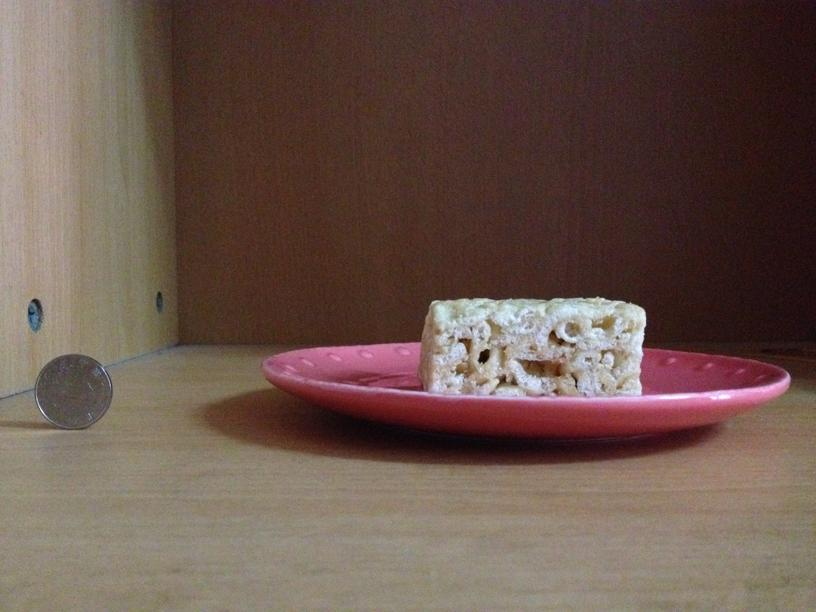coin: (34, 356, 114, 430)
sachima: (416, 293, 646, 399)
